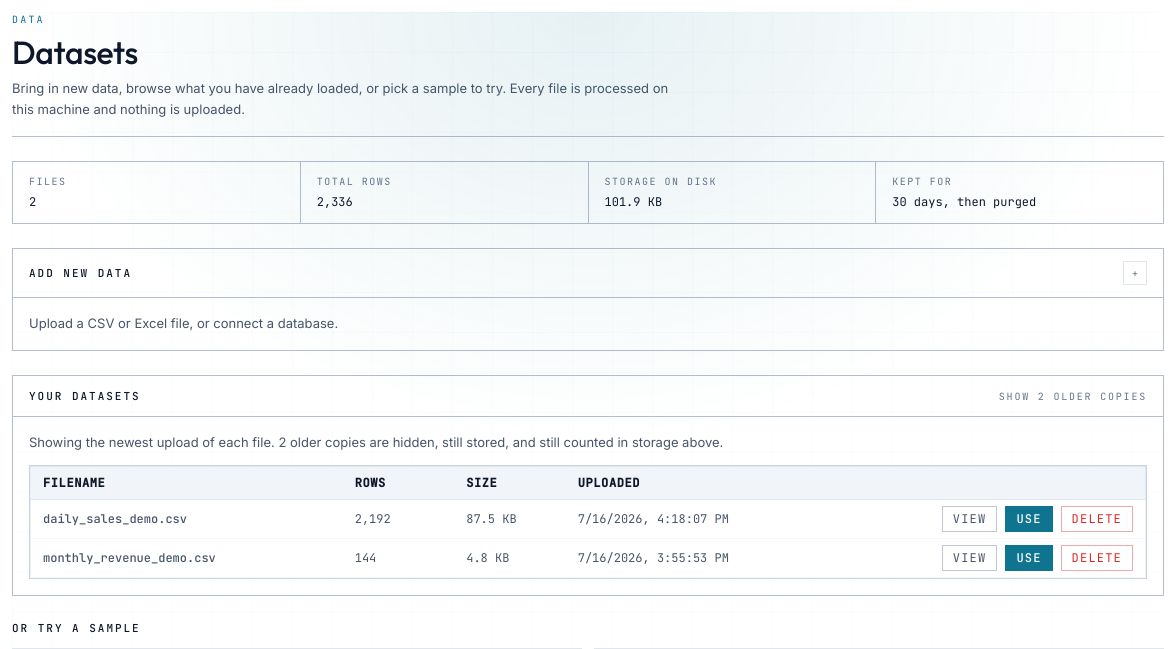
it: DataPage duplicate collapsing › can reveal the hidden copies so they remain deletable
What coordinates should you click on to do the following:
click the button "Show 2 older copies"
I would click on:
 (1073, 396)
Its box is [999, 389, 1147, 404].
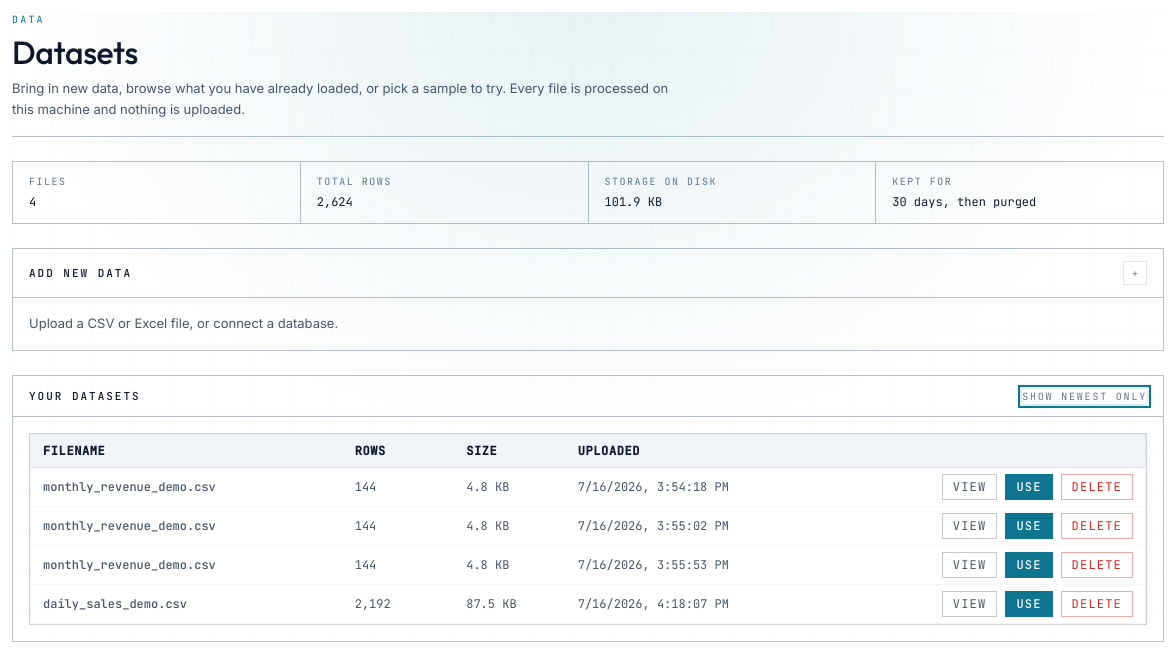
expect the text "monthly_revenue_demo.csv" is shown 3 times: met, box [30, 468, 343, 507]; [30, 507, 343, 546]; [30, 546, 343, 585]
What coordinates should you click on to do the following:
click the button "Show newest only"
I would click on:
 (1085, 396)
Its box is [1022, 389, 1147, 404].
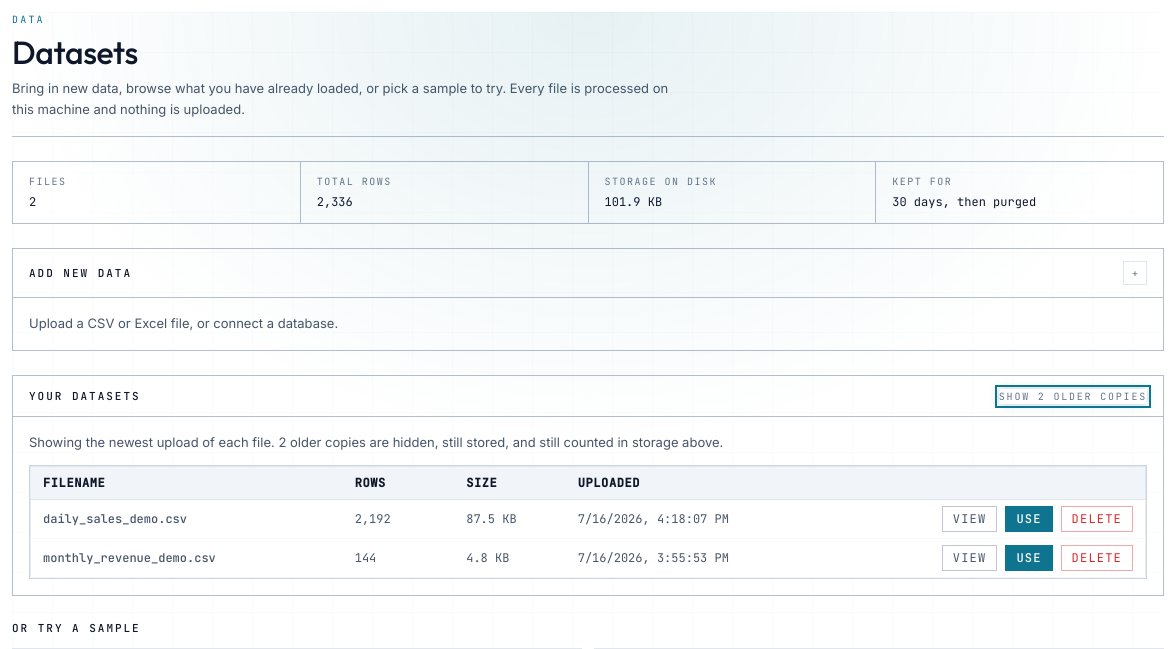
expect the text "monthly_revenue_demo.csv" is shown once: met, box [30, 538, 343, 577]
